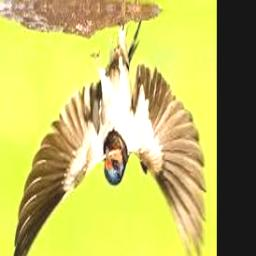Swallow: (11, 22, 206, 256)
